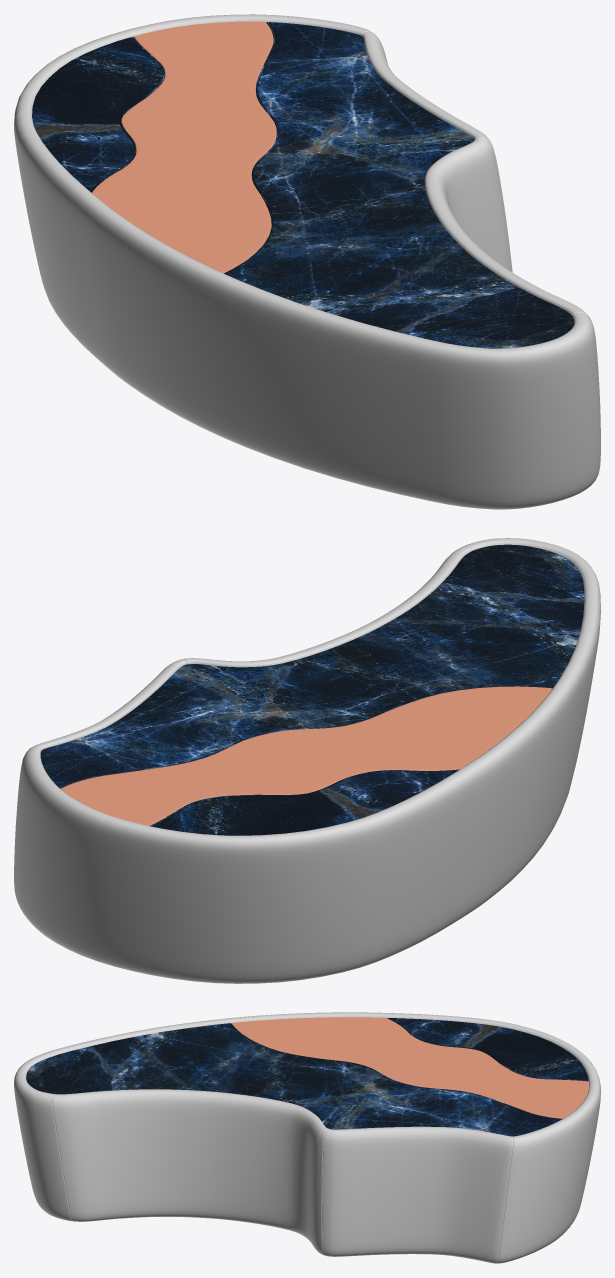
File: SLN_ISLAND-IN-THE-STREAM_BIG.glb
The picture shows the model from 3 angles, top to bottom: view 1: azimuth 30°, elevation 25°; view 2: azimuth 150°, elevation 25°; view 3: azimuth 270°, elevation 25°; orthographic projection. The views are drawn at different scales.
Parts seen in each view (by area): view 1: ISLAND IN THE STREAM_BIG; view 2: ISLAND IN THE STREAM_BIG; view 3: ISLAND IN THE STREAM_BIG.
Boxes of the visible parts, x1=… form: ISLAND IN THE STREAM_BIG: x1=14, y1=14, x2=600, y2=509; ISLAND IN THE STREAM_BIG: x1=14, y1=538, x2=600, y2=983; ISLAND IN THE STREAM_BIG: x1=14, y1=1012, x2=600, y2=1263.
Bounding box in the file's own units: 0.7651 × 0.3062 × 1.38.
Materials: 3 (1 with a texture image).
